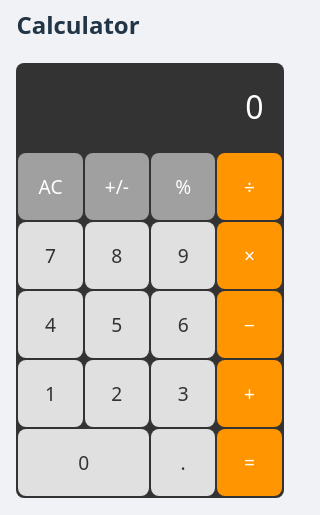
Test case: Calculator componant test › should perform addition
This screenshot has width=320, height=515.
Click the button with test id "btn-5": click(117, 324) [85, 291, 149, 358]
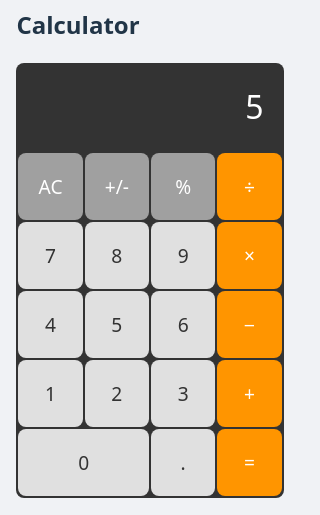
Click the button with test id "btn-add": click(249, 393) [217, 360, 282, 427]
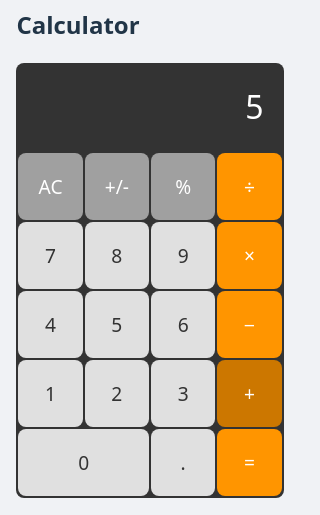
Click the button with test id "btn-3": click(183, 393) [151, 360, 215, 427]
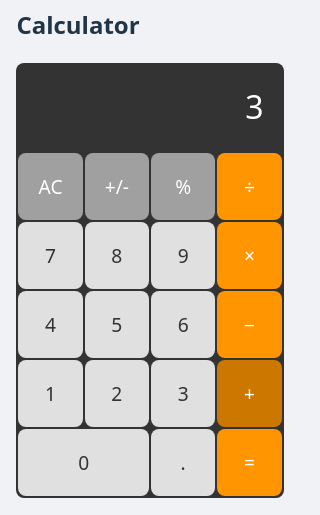
Click the button with test id "btn-equals": click(249, 462) [217, 429, 282, 496]
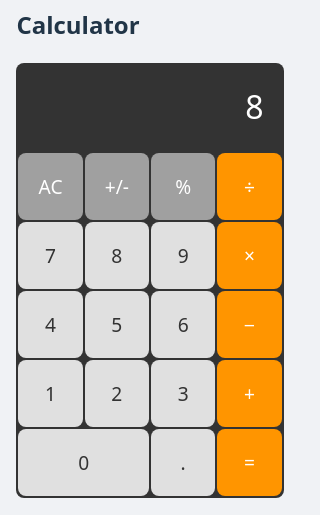
Result: the text with test id "calc-display" reads "8" at [245, 85, 264, 128]
